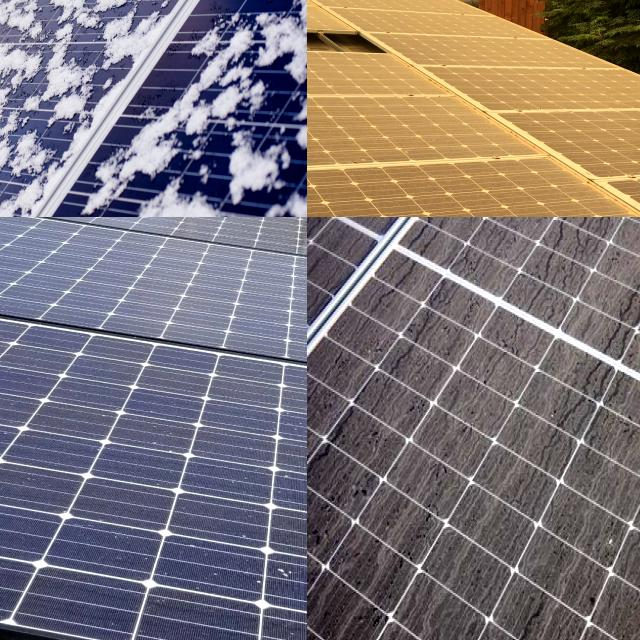dust: (307, 383, 526, 517), (556, 337, 640, 640), (307, 571, 526, 640), (373, 217, 556, 298), (586, 217, 640, 344), (307, 217, 364, 255)
panel: (170, 15, 246, 119), (248, 67, 307, 193), (10, 0, 112, 61), (17, 63, 88, 150), (110, 118, 180, 203), (0, 12, 49, 121), (0, 60, 41, 188), (0, 0, 59, 87), (9, 0, 102, 53), (216, 0, 307, 50), (0, 68, 37, 189), (141, 0, 215, 59), (111, 0, 169, 67), (240, 0, 307, 58), (121, 180, 224, 217), (0, 0, 49, 72), (0, 0, 60, 52), (238, 173, 307, 217), (0, 0, 43, 66), (0, 0, 49, 52), (0, 138, 37, 194), (177, 0, 231, 37), (121, 0, 142, 48), (0, 191, 38, 217), (0, 194, 38, 217)
